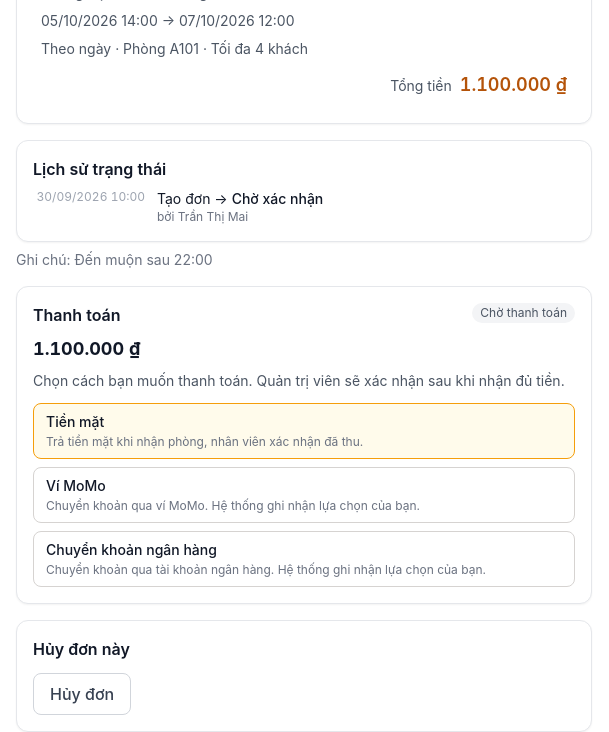
MyBookingDetail - huy don › HuyDon_TaiLaiPhieuThu_KhongConHienChuaThanhToan
The image size is (609, 732).
(page scrolled)
Expected: the text "Chờ thanh toán" is shown, [472,303,575,323]
Click the button "Hủy đơn" at (82, 694), box [33,673,131,715]
(page scrolled)
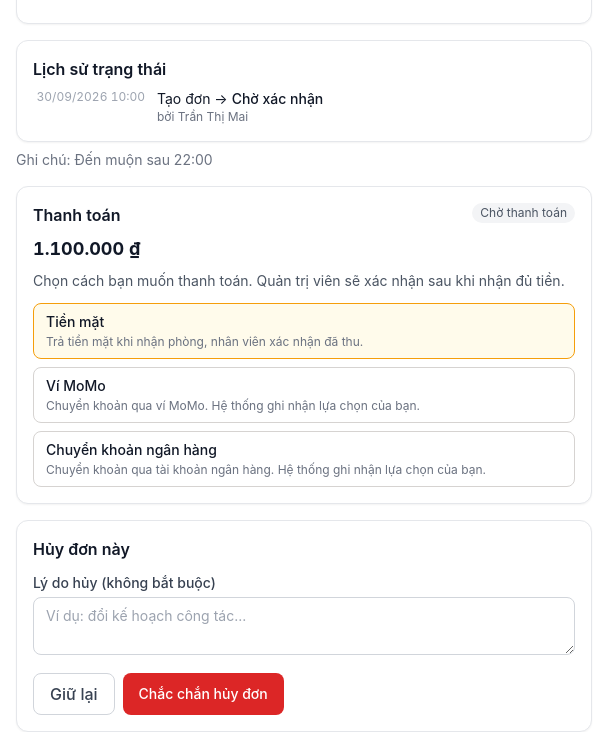
Click the button "Chắc chắn hủy đơn" at (203, 694), box [122,673,284,715]
(page scrolled)
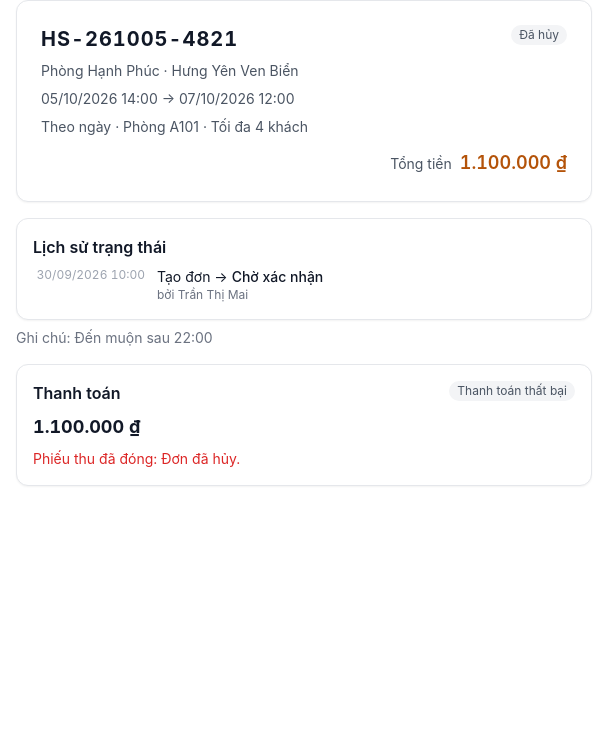
Now the text "Thanh toán thất bại" is shown, box [449,381,575,401]
Now the text "Chờ thanh toán" is gone
